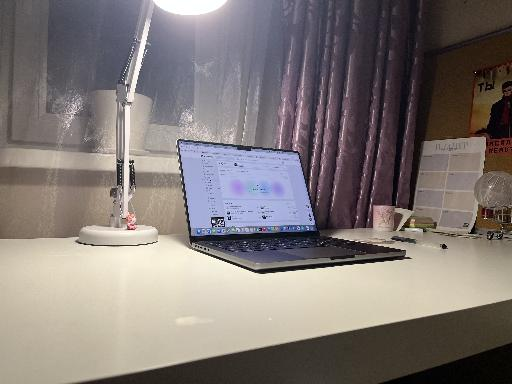vk: (181, 153, 316, 227)
